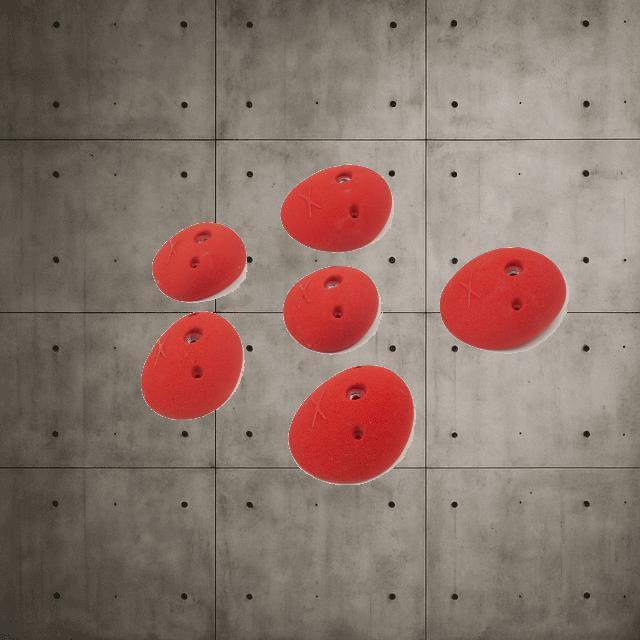Sloper: (286, 364, 414, 484), (438, 246, 568, 350), (140, 311, 242, 421), (279, 164, 393, 253), (282, 264, 380, 354), (151, 220, 247, 304)
